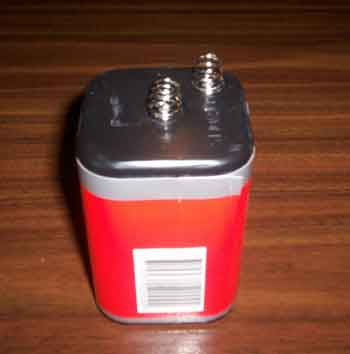6V: (72, 49, 260, 331)
